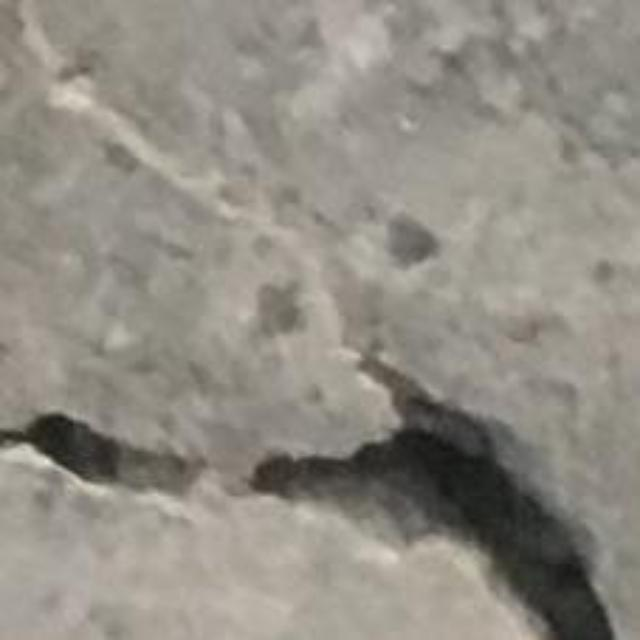crack: (246, 336, 614, 639)
